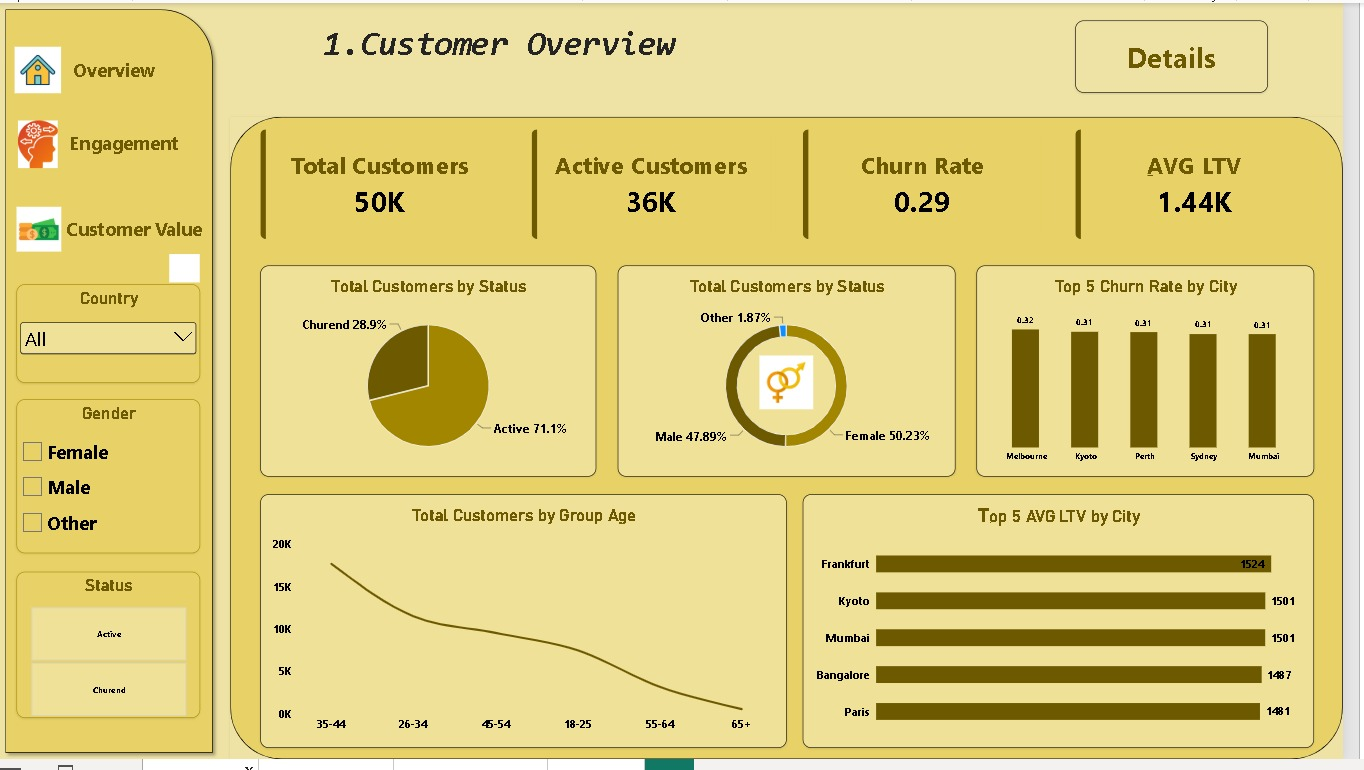

The dashboard page shown, as its layout file describes it:
{"tool":"powerbi","page":{"name":"Overview","canvas":[1920,1080],"ordinal":0},"visuals":[{"type":"shape","box":[330.4,162.5,1589.3,917.9],"z":0},{"type":"shape","box":[0,0,314.3,1080.4],"z":1},{"type":"cardVisual","fields":{"Data":["All Measures.Total Customers"]},"box":[372.9,180,341.1,157.1],"z":2},{"type":"cardVisual","fields":{"Data":["All Measures.Active Customers"]},"box":[761,180,341.1,157.1],"z":3},{"type":"cardVisual","fields":{"Data":["All Measures.Churn Rate"]},"box":[1149.1,180,341.1,157.1],"z":4},{"type":"cardVisual","fields":{"Data":["All Measures.ِAVG LTV"]},"box":[1537.2,180,341.1,157.1],"z":5},{"type":"pieChart","title":"Total Customers by Status","fields":{"Category":["Data.Customer Type"],"Y":["All Measures.Total Customers"]},"box":[373.2,375,480.4,301.8],"z":6},{"type":"donutChart","title":"Total Customers by Status","fields":{"Category":["Data.Gender"],"Y":["All Measures.Total Customers"]},"box":[883.9,375,482.1,301.8],"z":7},{"type":"columnChart","title":"Top 5 Churn Rate by City","fields":{"Category":["Data.City"],"Y":["All Measures.Churn Rate"]},"box":[1396.4,375,482.1,301.8],"z":8},{"type":"lineChart","title":"Total Customers by Group Age","fields":{"Category":["Data.Age Group"],"Y":["All Measures.Total Customers"]},"box":[373.2,701.8,751.8,362.5],"z":9},{"type":"barChart","title":"Tِop 5 AVG LTV by City","fields":{"Category":["Data.City"],"Y":["All Measures.ِAVG LTV"]},"box":[1148.2,701.8,730.4,362.5],"z":10},{"type":"image","box":[330.4,503.6,1589.3,76.8],"z":11},{"type":"actionButton","title":"Overv","box":[26.8,44.6,275,103.6],"z":12},{"type":"actionButton","title":"Overv","box":[69.6,271.4,246.4,103.6],"z":13},{"type":"actionButton","title":"Overv","box":[41.1,148.2,275,103.6],"z":14},{"type":"image","box":[14.3,62.5,82.1,66.1],"z":15},{"type":"slicer","title":"Gender","fields":{"Values":["Data.Gender"]},"box":[25,566.1,262.5,219.6],"z":17},{"type":"slicer","title":"Status","fields":{"Values":["Data.Customer Type"]},"box":[25,812.5,262.5,208.9],"z":18},{"type":"textbox","box":[439.3,30.4,550,66.1],"z":19},{"type":"slicer","title":"Country","fields":{"Values":["Data.Country"]},"box":[25,401.8,262.5,141.1],"z":20},{"type":"image","box":[14.3,167.9,82.1,67.9],"z":21},{"type":"image","box":[25,283.9,64.3,78.6],"z":22},{"type":"actionButton","title":"Overv","box":[1537.5,25,275,103.6],"z":23}]}

Visuals, with their boxes in screenshot pixels (x1, y1, x2, y2), scaled from the page's 1920x1080 canvas onto the 1364x770 screenshot:
shape: {"left": 235, "top": 116, "right": 1363, "bottom": 769}
shape: {"left": 0, "top": 0, "right": 223, "bottom": 769}
cardVisual - All Measures.Total Customers: {"left": 265, "top": 128, "right": 507, "bottom": 240}
cardVisual - All Measures.Active Customers: {"left": 541, "top": 128, "right": 783, "bottom": 240}
cardVisual - All Measures.Churn Rate: {"left": 816, "top": 128, "right": 1059, "bottom": 240}
cardVisual - All Measures.ِAVG LTV: {"left": 1092, "top": 128, "right": 1334, "bottom": 240}
"Total Customers by Status" pieChart: {"left": 265, "top": 267, "right": 606, "bottom": 483}
"Total Customers by Status" donutChart: {"left": 628, "top": 267, "right": 970, "bottom": 483}
"Top 5 Churn Rate by City" columnChart: {"left": 992, "top": 267, "right": 1335, "bottom": 483}
"Total Customers by Group Age" lineChart: {"left": 265, "top": 500, "right": 799, "bottom": 759}
"Tِop 5 AVG LTV by City" barChart: {"left": 816, "top": 500, "right": 1335, "bottom": 759}
image: {"left": 235, "top": 359, "right": 1363, "bottom": 414}
"Overv" actionButton: {"left": 19, "top": 32, "right": 214, "bottom": 106}
"Overv" actionButton: {"left": 49, "top": 193, "right": 224, "bottom": 267}
"Overv" actionButton: {"left": 29, "top": 106, "right": 225, "bottom": 180}
image: {"left": 10, "top": 45, "right": 68, "bottom": 92}
"Gender" slicer: {"left": 18, "top": 404, "right": 204, "bottom": 560}
"Status" slicer: {"left": 18, "top": 579, "right": 204, "bottom": 728}
textbox: {"left": 312, "top": 22, "right": 703, "bottom": 69}
"Country" slicer: {"left": 18, "top": 286, "right": 204, "bottom": 387}
image: {"left": 10, "top": 120, "right": 68, "bottom": 168}
image: {"left": 18, "top": 202, "right": 63, "bottom": 258}
"Overv" actionButton: {"left": 1092, "top": 18, "right": 1288, "bottom": 92}
